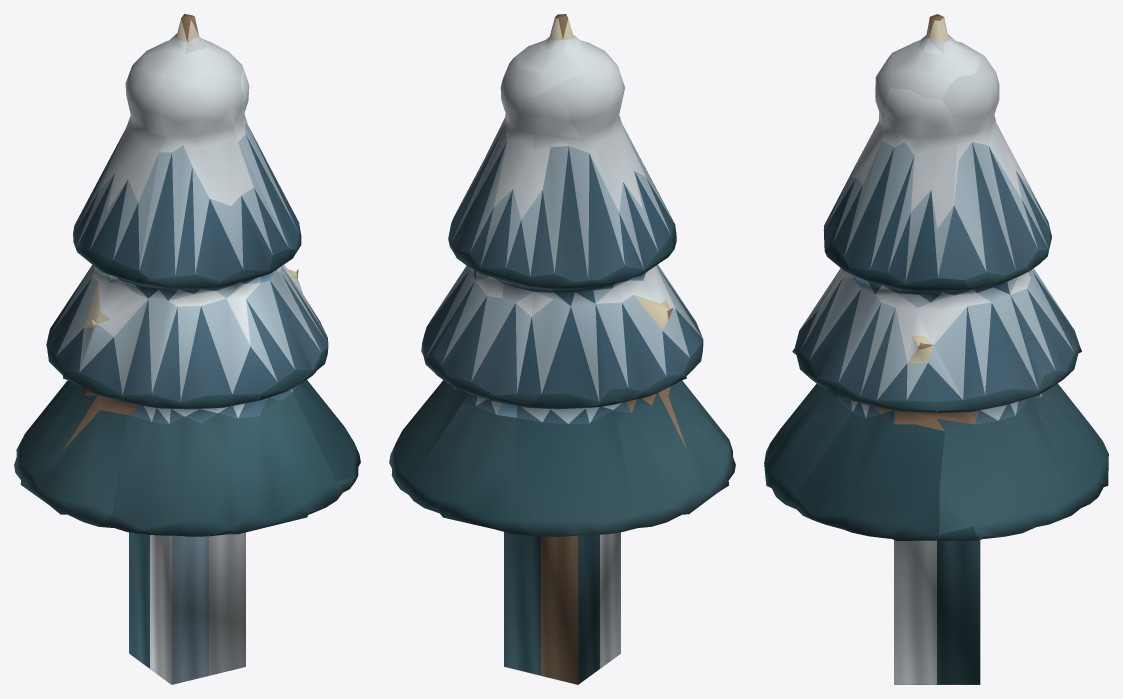
Rendered from tree_pine_c.glb.
The picture shows the model from 3 angles, left to right: view 1: azimuth 30°, elevation 25°; view 2: azimuth 150°, elevation 25°; view 3: azimuth 270°, elevation 25°; orthographic projection.
Parts seen in each view (by area): view 1: lod0, col; view 2: lod0, col; view 3: lod0, col.
Boxes of the visible parts, x1,y1,x2,y2 form: lod0: (14,14,360,536); col: (129,532,245,684); lod0: (389,14,735,536); col: (504,532,620,684); lod0: (764,14,1108,540); col: (894,540,980,684).
Size of what is drawn, in the model's own units: 2.39 by 4.97 by 2.39.
2 materials, 2 textured.
